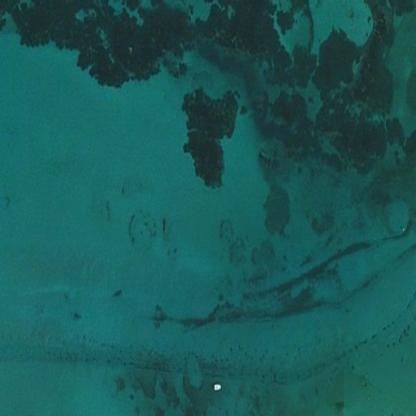ship: (210, 380, 222, 392)
